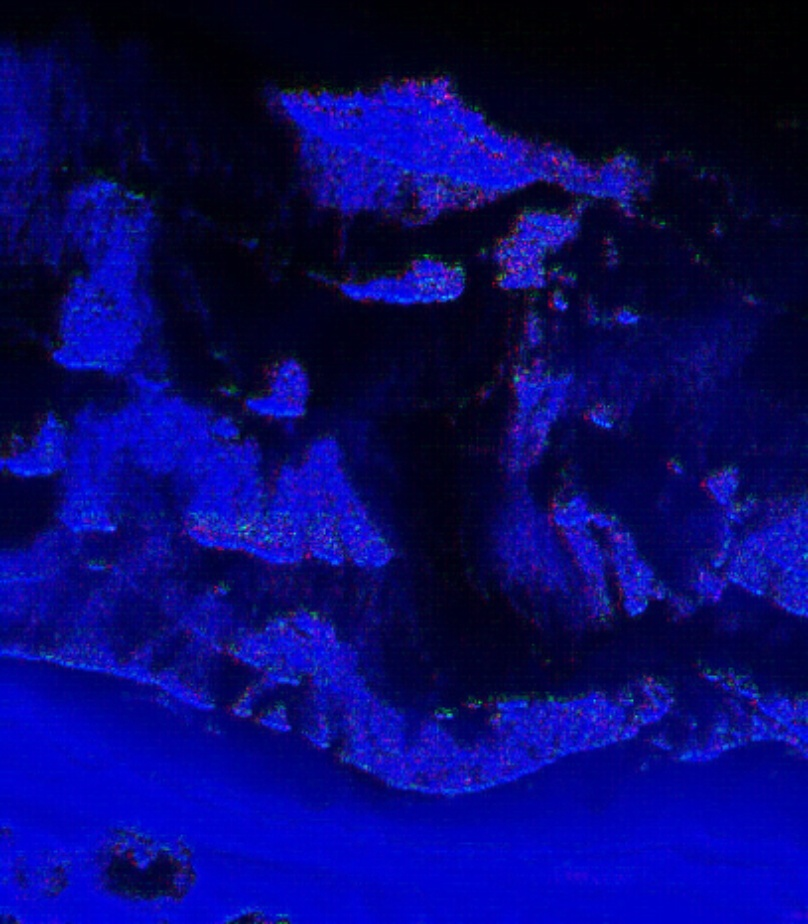rip_current: (248, 172, 625, 722)
